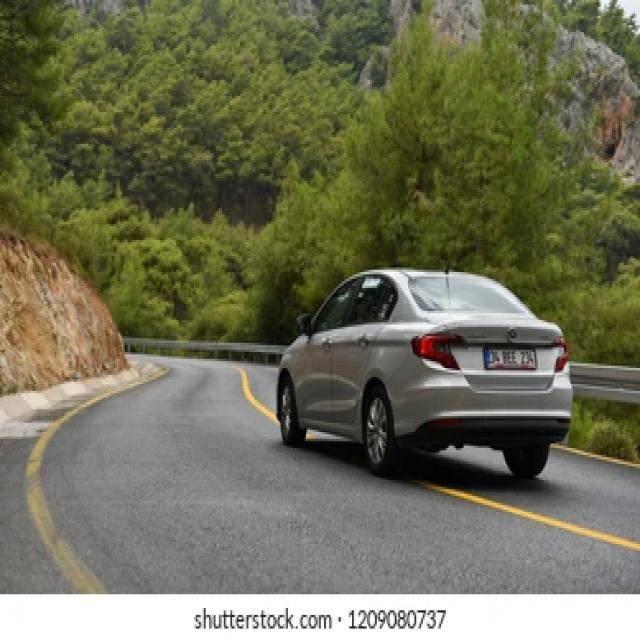fiat: (508, 327, 518, 343)
